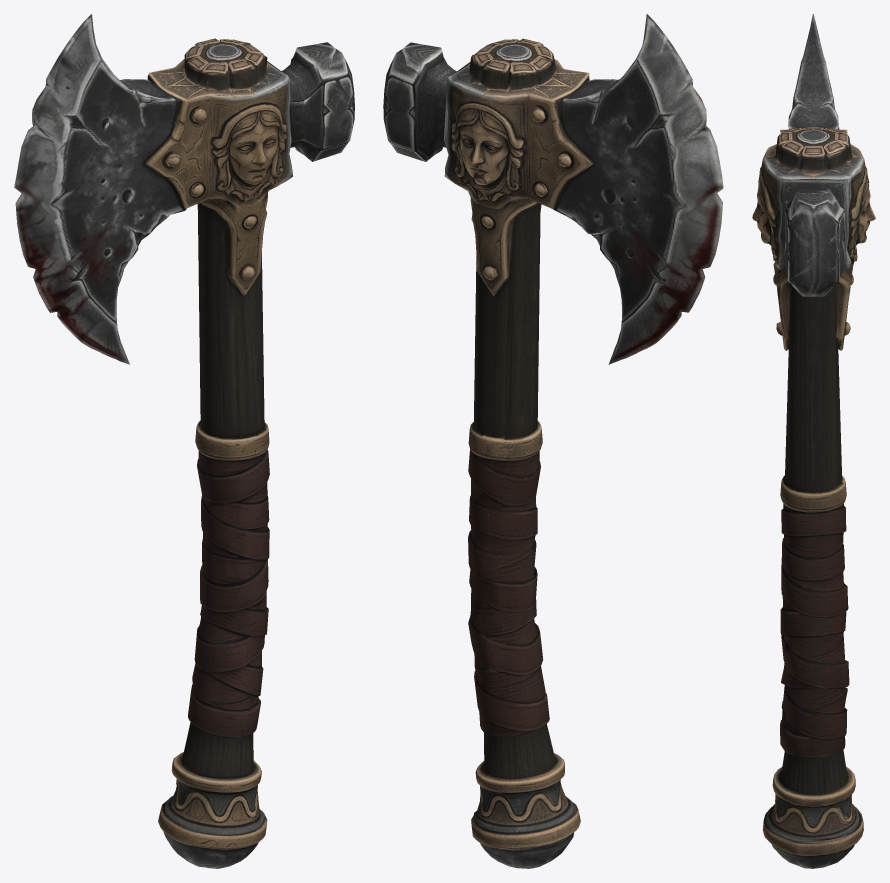
File: guillotine-hymn.glb
3 views of the same model, side by side, from view 1: azimuth 30°, elevation 25°; view 2: azimuth 150°, elevation 25°; view 3: azimuth 270°, elevation 25° (orthographic). The views are drawn at different scales.
Bounding box in the file's own units: 0.3784 × 0.9502 × 0.1333.
1 material, 1 textured.
